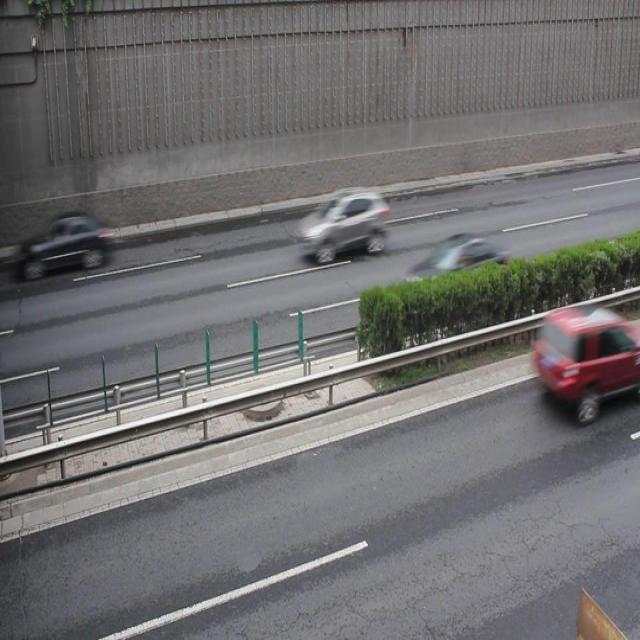car: (532, 302, 640, 418), (404, 233, 512, 313), (297, 182, 389, 264), (17, 209, 112, 283)
